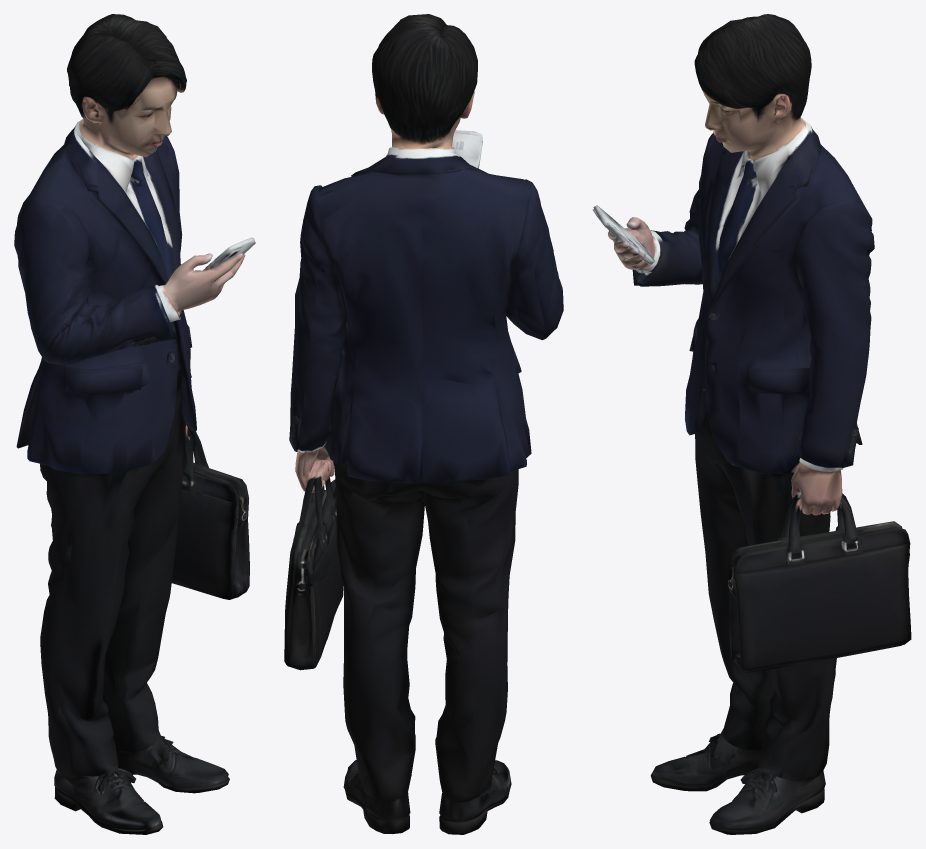
Rendered from person-business-m01.glb.
3 renders of one model, left to right at view 1: azimuth 30°, elevation 25°; view 2: azimuth 150°, elevation 25°; view 3: azimuth 270°, elevation 25°, orthographic.
Parts seen in each view (by area): view 1: JPGV01_M01_L10k; view 2: JPGV01_M01_L10k; view 3: JPGV01_M01_L10k.
Part boxes in pixels (left/top/right/bottom): JPGV01_M01_L10k: left=14, top=14, right=255, bottom=834; JPGV01_M01_L10k: left=284, top=14, right=563, bottom=834; JPGV01_M01_L10k: left=592, top=14, right=911, bottom=834.
Bounding box in the file's own units: 0.5488 × 1.77 × 0.6586.
Materials: 1 (1 with a texture image).
